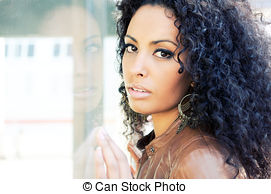face: (113, 3, 195, 120)
